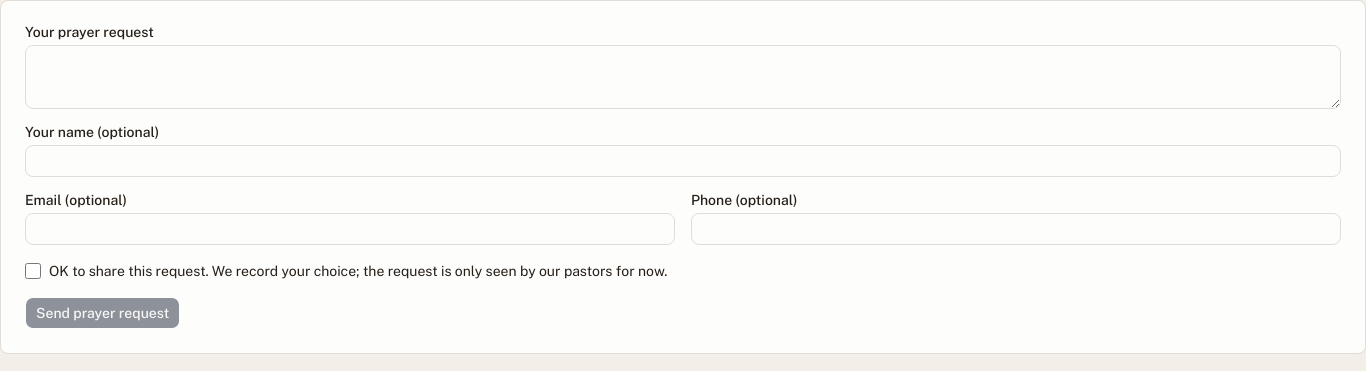
Test: sends the request and shows the thank-you
Expected: the button "Send prayer request" is disabled, [25, 297, 180, 329]
Step 1. Type "Peace for our family" into the text box labelled "Your prayer request" → {"x": 683, "y": 77}, box [25, 45, 1341, 109]
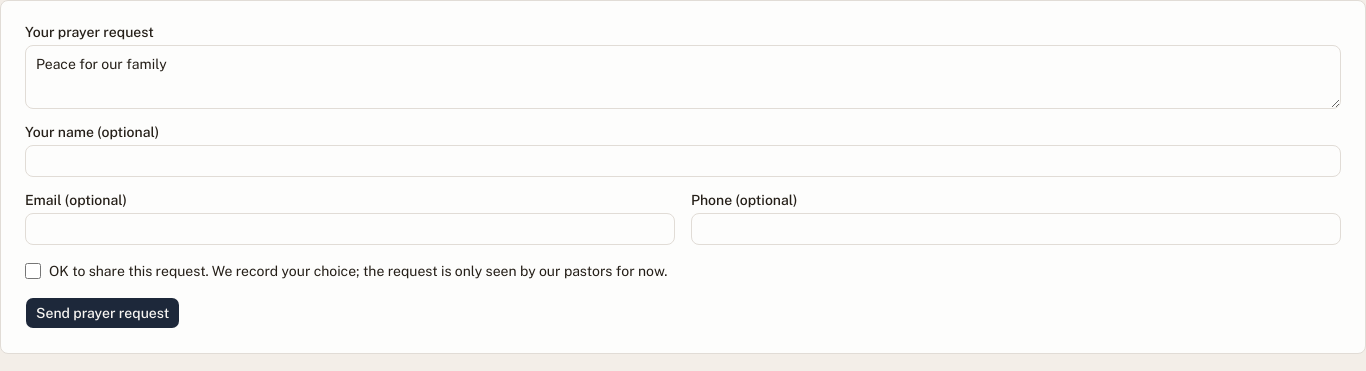
Step 2. Click the checkbox → {"x": 33, "y": 271}, box [25, 263, 41, 279]
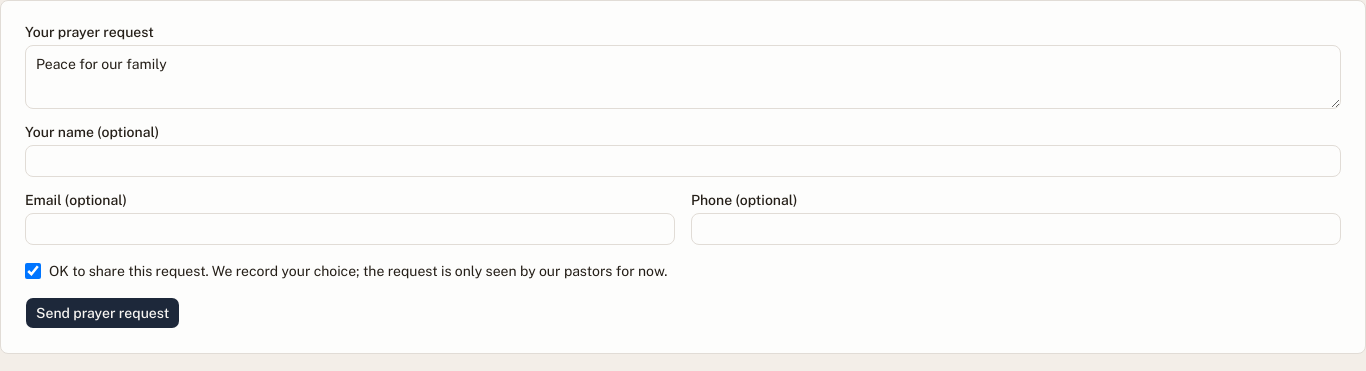
Step 3. Click the button "Send prayer request" → {"x": 103, "y": 313}, box [25, 297, 180, 329]
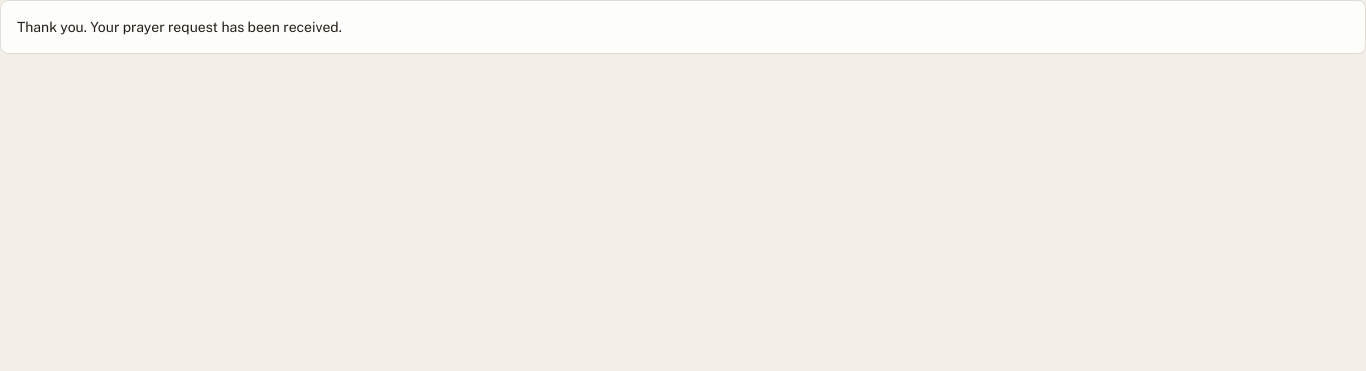
Now the message shows "Thank you", box [17, 19, 342, 35]
